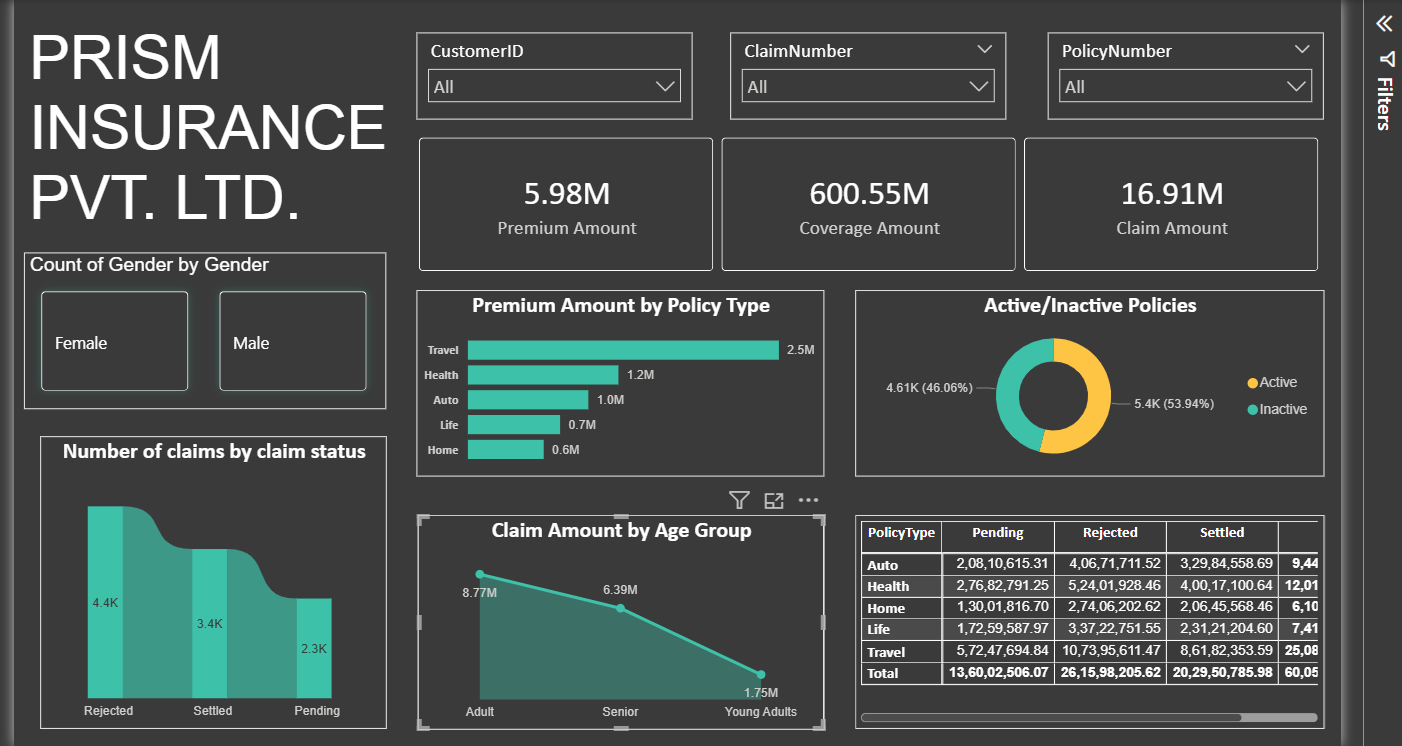

What the dashboard file says about the page in this screenshot:
{"tool":"powerbi","page":{"name":"Page 1","canvas":[1280,720],"ordinal":0},"visuals":[{"type":"slicer","fields":{"Values":["InsuranceData.CustomerID"]},"box":[388.3,31.6,266.2,83.7],"z":0},{"type":"slicer","fields":{"Values":["InsuranceData.ClaimNumber"]},"box":[691.6,31.6,266.2,83.7],"z":1000},{"type":"slicer","fields":{"Values":["InsuranceData.PolicyNumber"]},"box":[997.6,31.6,266.2,83.7],"z":2000},{"type":"textbox","box":[9.6,17.8,367.8,225],"z":3000},{"type":"cardVisual","fields":{"Data":["Sum(InsuranceData.PremiumAmount)","Sum(InsuranceData.CoverageAmount)","Sum(InsuranceData.ClaimAmount)"]},"box":[373.5,115.8,902.7,164],"z":4000},{"type":"clusteredBarChart","title":"Premium Amount by Policy Type","fields":{"Y":["Sum(InsuranceData.PremiumAmount)"],"Category":["InsuranceData.PolicyType"]},"box":[388.5,279.9,393.3,179.8],"z":5000},{"type":"ribbonChart","title":"Number of claims by claim status","fields":{"Y":["CountNonNull(InsuranceData.ClaimStatus)"],"Category":["InsuranceData.ClaimStatus"]},"box":[25.3,421,334.2,282.3],"z":6000},{"type":"lineChart","title":"Claim Amount by Age Group","fields":{"Category":["InsuranceData.Age Group"],"Y":["Sum(InsuranceData.ClaimAmount)"]},"box":[389.7,497.1,392.1,207.5],"z":7000},{"type":"donutChart","title":"Active/Inactive Policies","fields":{"Category":["InsuranceData.Active/Inactive"],"Y":["CountNonNull(InsuranceData.Active/Inactive)"]},"box":[811.9,279.9,452.4,179.8],"z":8000},{"type":"pivotTable","fields":{"Values":["Sum(InsuranceData.CoverageAmount)"],"Rows":["InsuranceData.PolicyType"],"Columns":["InsuranceData.ClaimStatus"]},"box":[811.9,497.1,452.4,206.3],"z":9000},{"type":"advancedSlicerVisual","fields":{"Values":["InsuranceData.Gender"],"Label":["CountNonNull(InsuranceData.Gender)"]},"box":[9.7,243.7,349.9,150.8],"z":10000}]}

Visuals, with their boxes on the page's 1280x720 design canvas (x1, y1, x2, y2). These are canvas units, not pixel positions in the 1402x746 screenshot, which may show the page scaled, cropped or inside an application window:
slicer - InsuranceData.CustomerID: {"x1": 388, "y1": 32, "x2": 654, "y2": 115}
slicer - InsuranceData.ClaimNumber: {"x1": 692, "y1": 32, "x2": 958, "y2": 115}
slicer - InsuranceData.PolicyNumber: {"x1": 998, "y1": 32, "x2": 1264, "y2": 115}
textbox: {"x1": 10, "y1": 18, "x2": 377, "y2": 243}
cardVisual - Sum(InsuranceData.PremiumAmount) x Sum(InsuranceData.CoverageAmount): {"x1": 374, "y1": 116, "x2": 1276, "y2": 280}
"Premium Amount by Policy Type" clusteredBarChart: {"x1": 388, "y1": 280, "x2": 782, "y2": 460}
"Number of claims by claim status" ribbonChart: {"x1": 25, "y1": 421, "x2": 360, "y2": 703}
"Claim Amount by Age Group" lineChart: {"x1": 390, "y1": 497, "x2": 782, "y2": 705}
"Active/Inactive Policies" donutChart: {"x1": 812, "y1": 280, "x2": 1264, "y2": 460}
pivotTable - Sum(InsuranceData.CoverageAmount) x InsuranceData.PolicyType: {"x1": 812, "y1": 497, "x2": 1264, "y2": 703}
advancedSlicerVisual - InsuranceData.Gender x CountNonNull(InsuranceData.Gender): {"x1": 10, "y1": 244, "x2": 360, "y2": 394}
